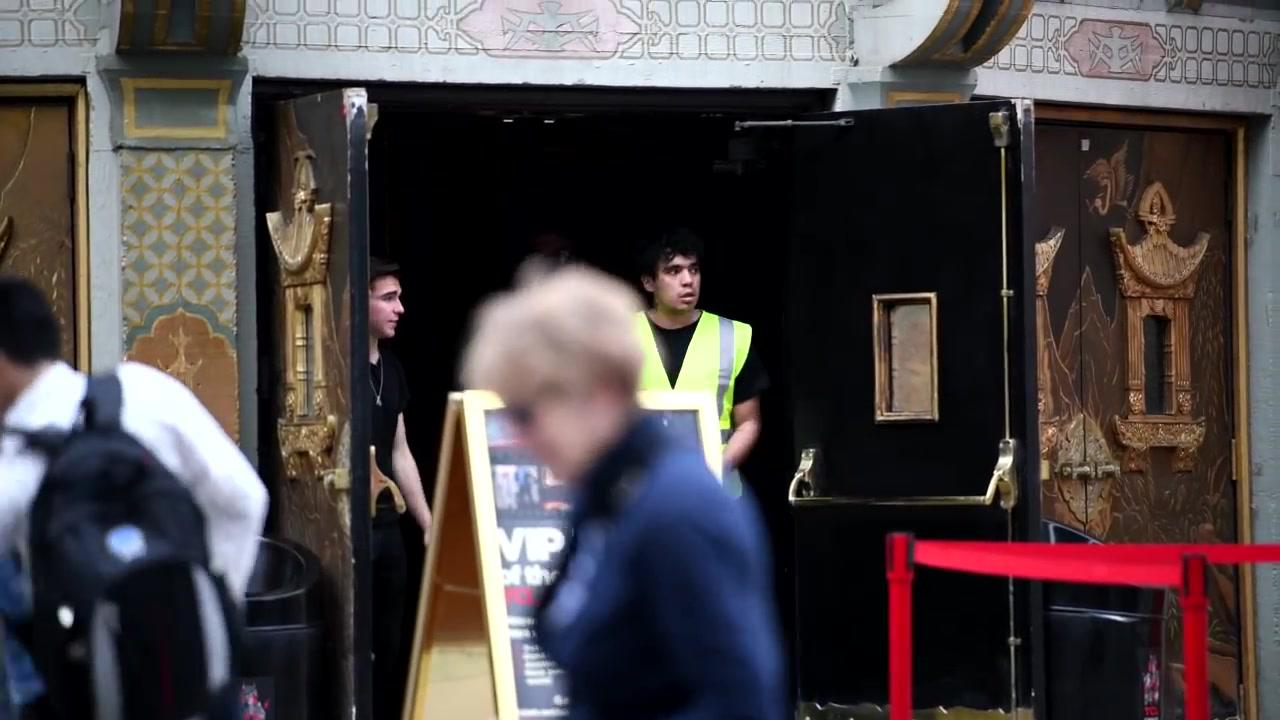Hi-Vis Jacket: (637, 314, 751, 437)
no -hi-vis jacket: (6, 389, 217, 678)
